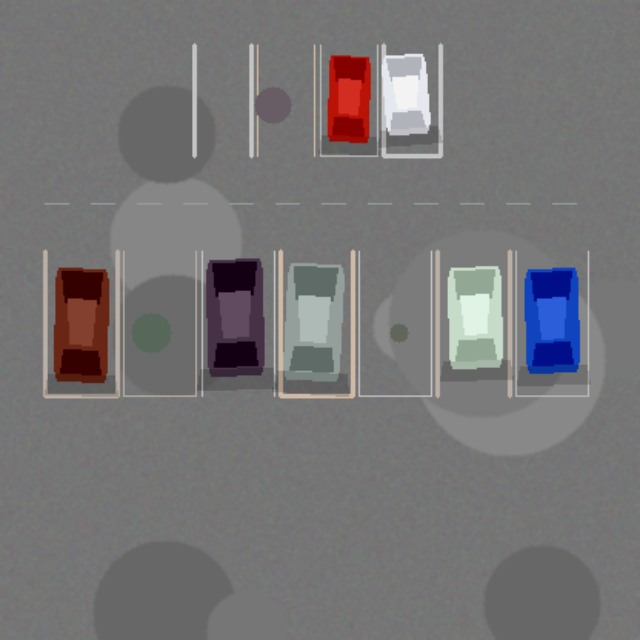space-empty: (358, 251, 431, 395), (123, 251, 195, 395), (194, 45, 251, 155), (257, 45, 314, 155)
space-occupied: (515, 251, 588, 395), (45, 251, 117, 395), (202, 251, 274, 395), (280, 251, 352, 395), (437, 251, 509, 395), (320, 45, 377, 155), (383, 45, 440, 155)
